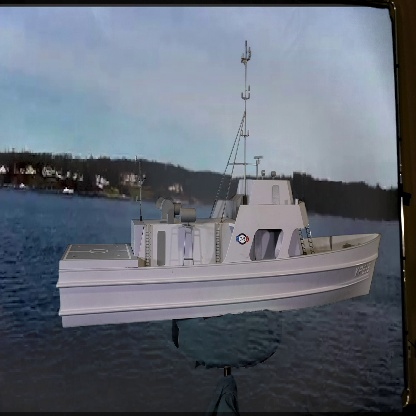YP689: (56, 39, 382, 331)
